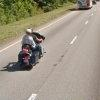Motorcycle: (6, 27, 52, 76)
